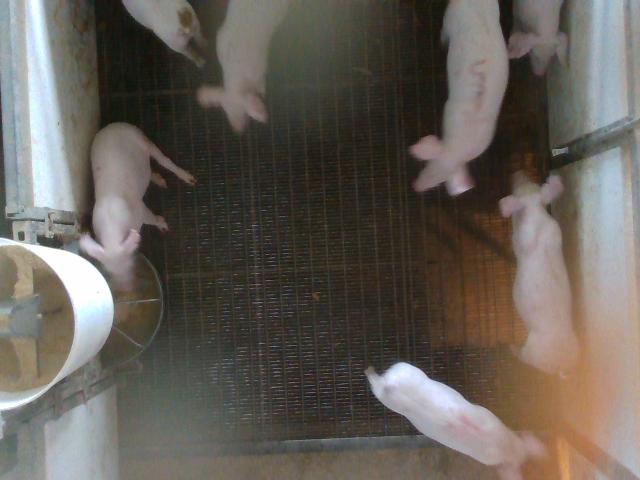pig-3: (410, 0, 509, 195)
pig-4: (365, 362, 545, 479)
